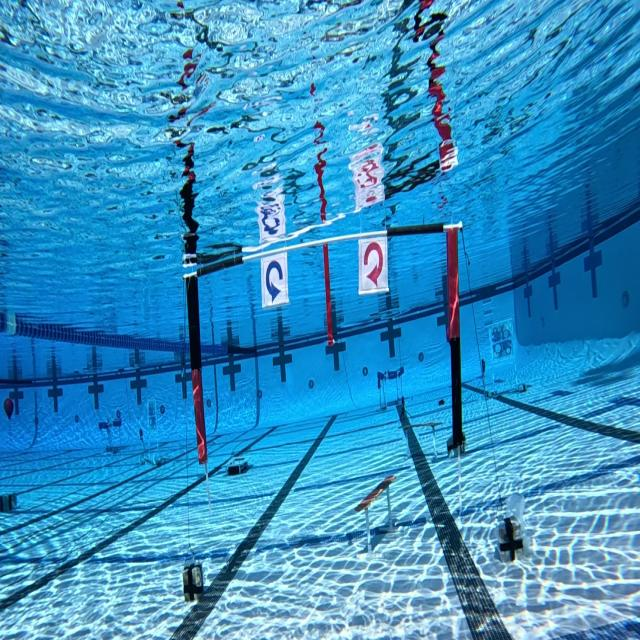blue_side: (260, 252, 289, 309)
red_side: (358, 234, 389, 296)
